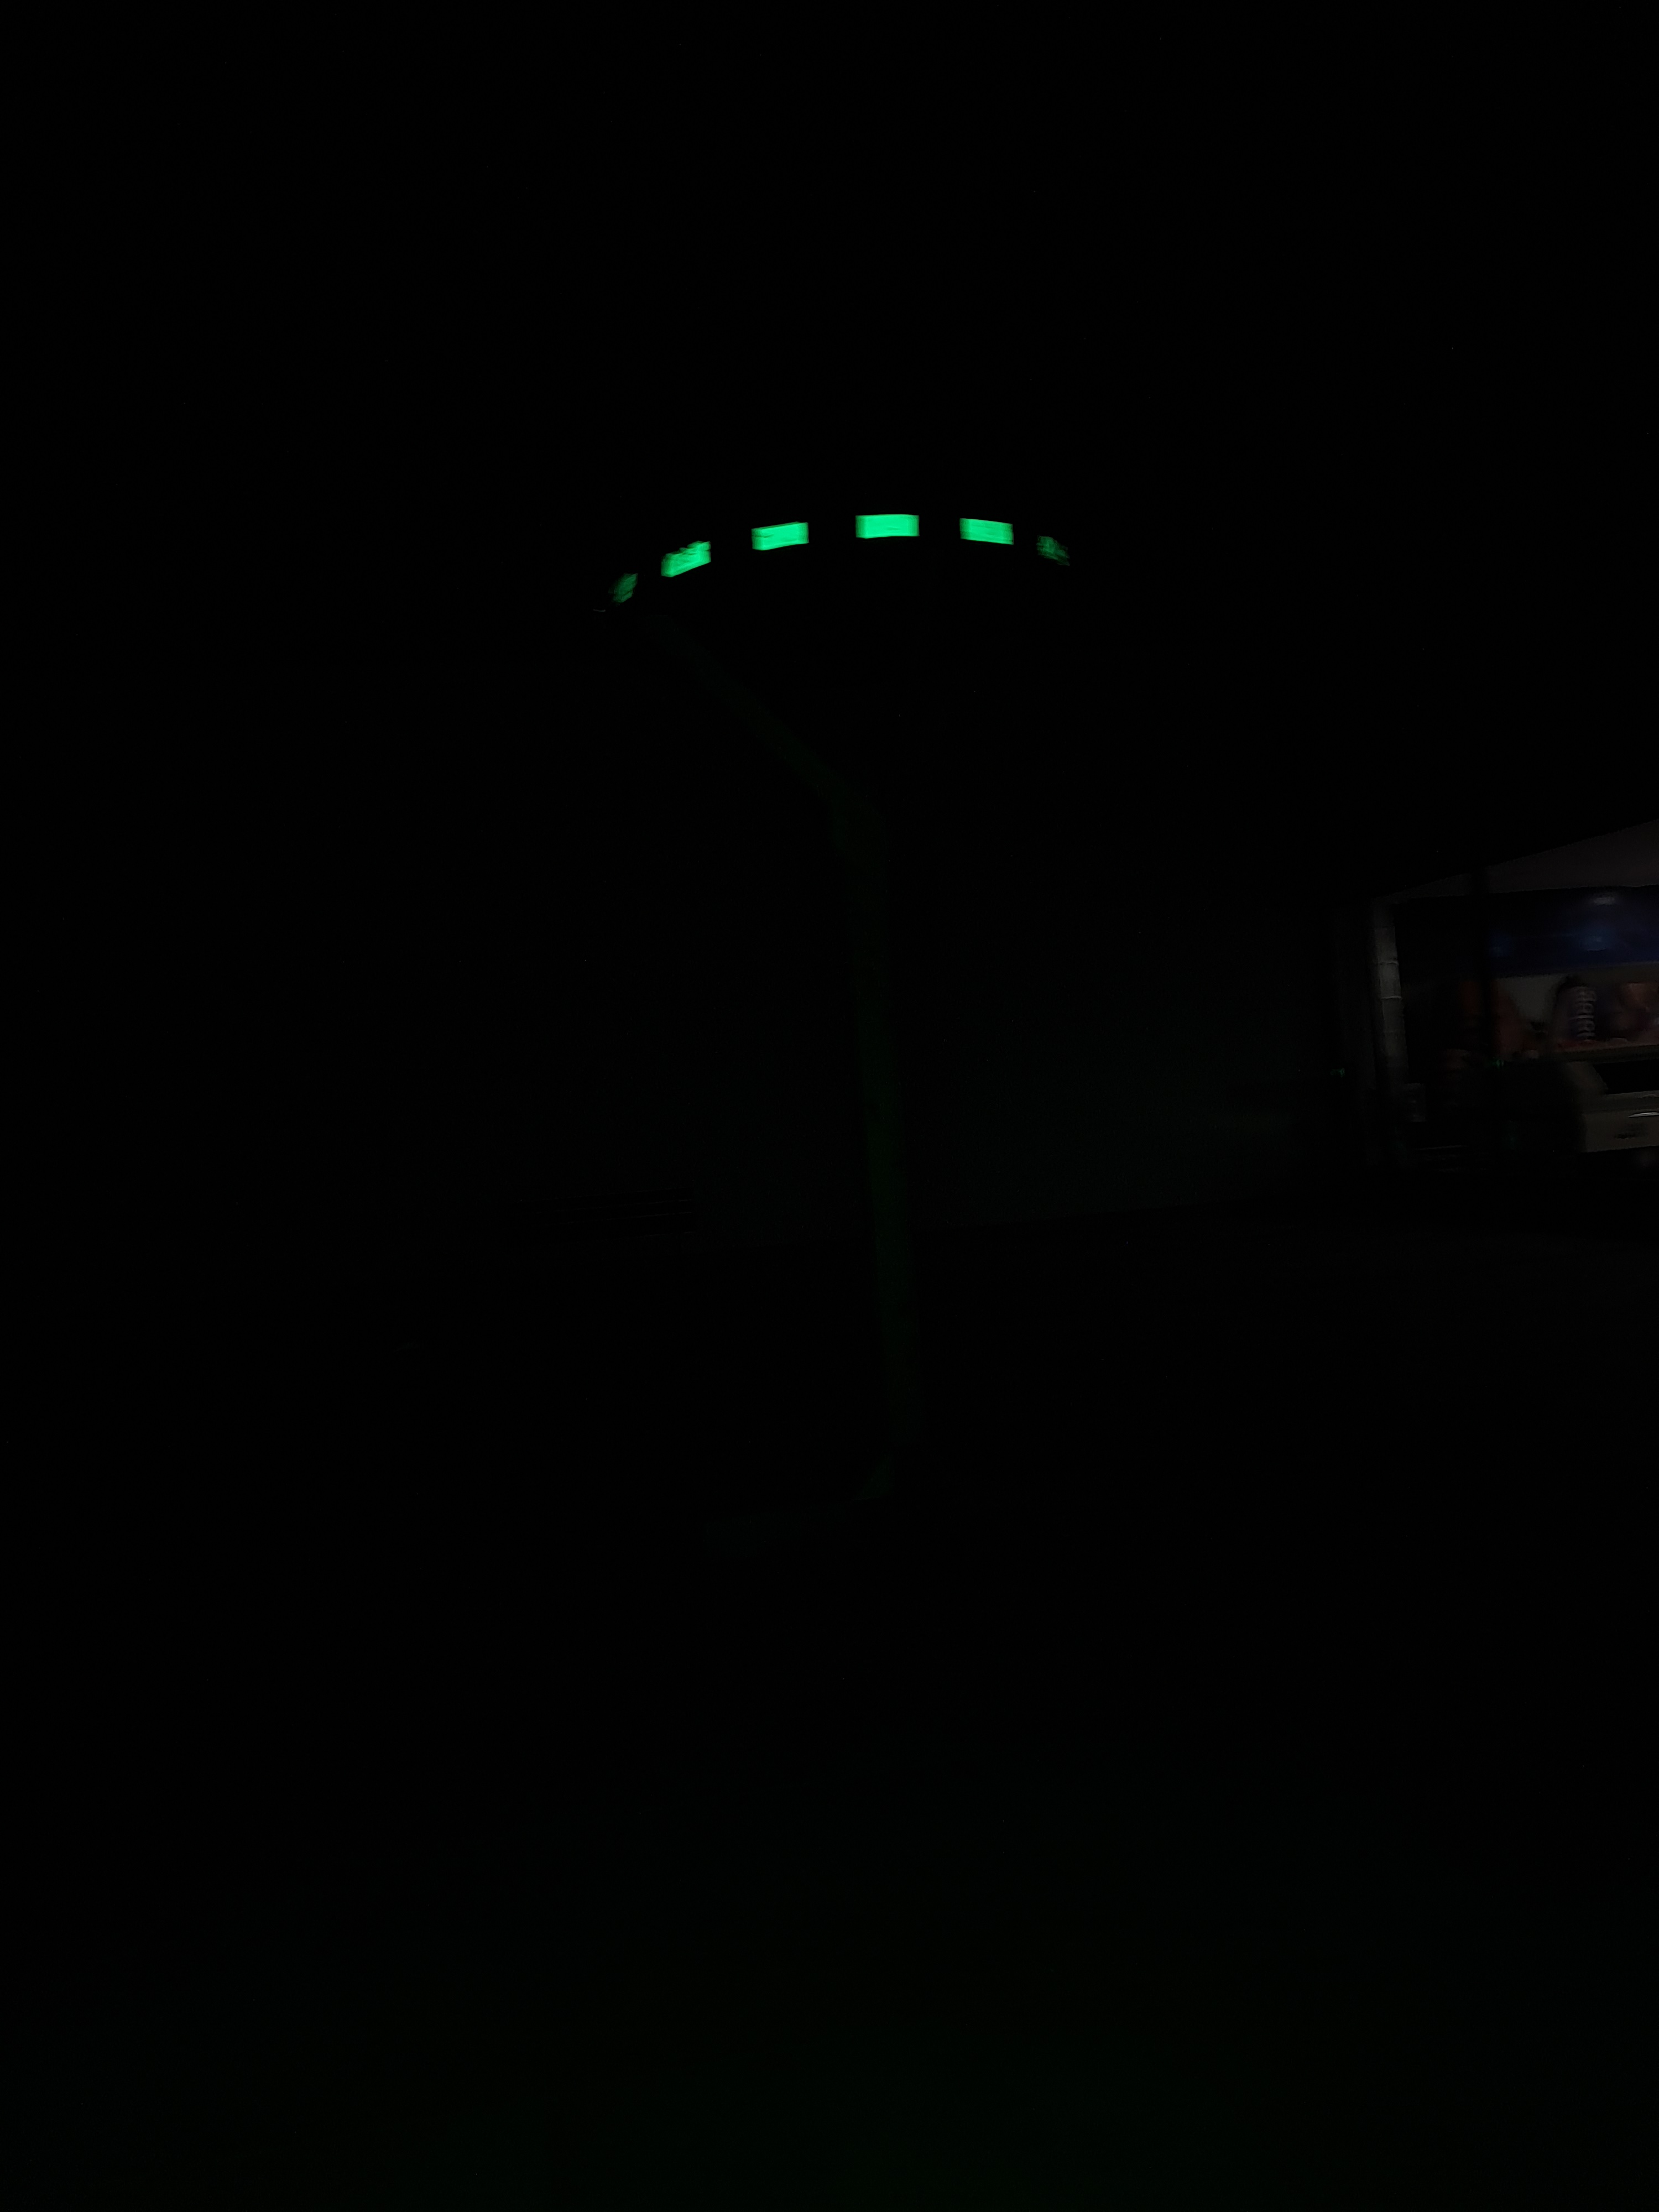hoop: (599, 481, 1100, 631)
